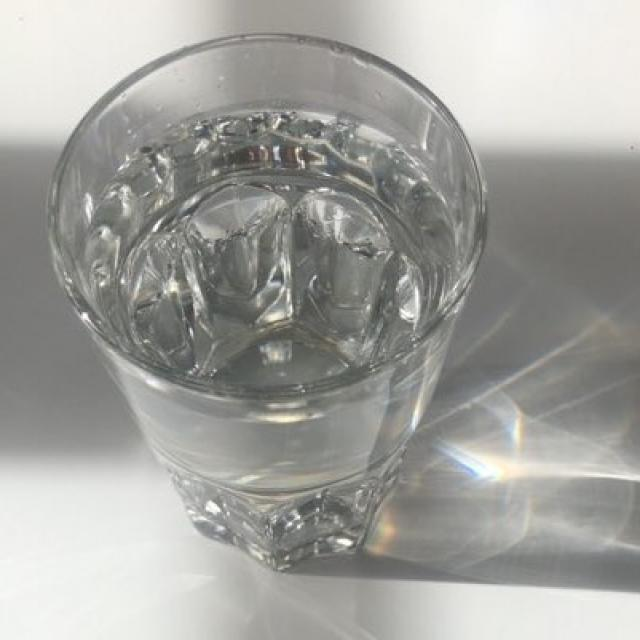water: (87, 118, 440, 393)
